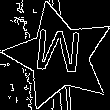M_S: (33, 29, 85, 84)
